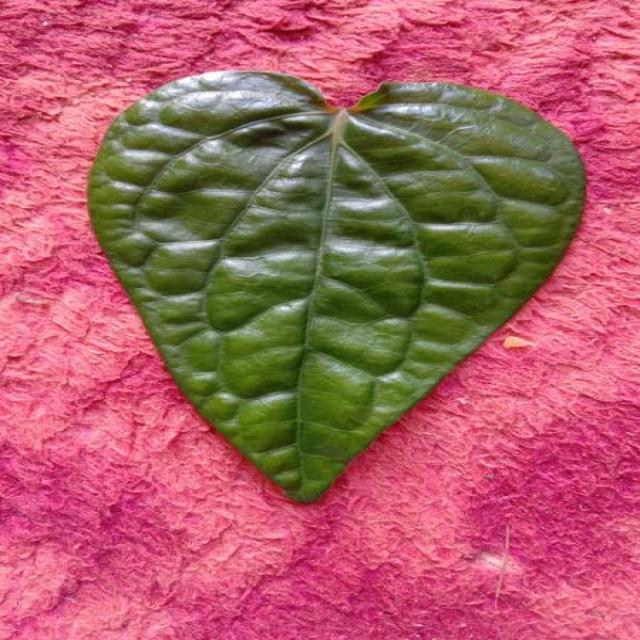betel: (90, 71, 583, 501)
